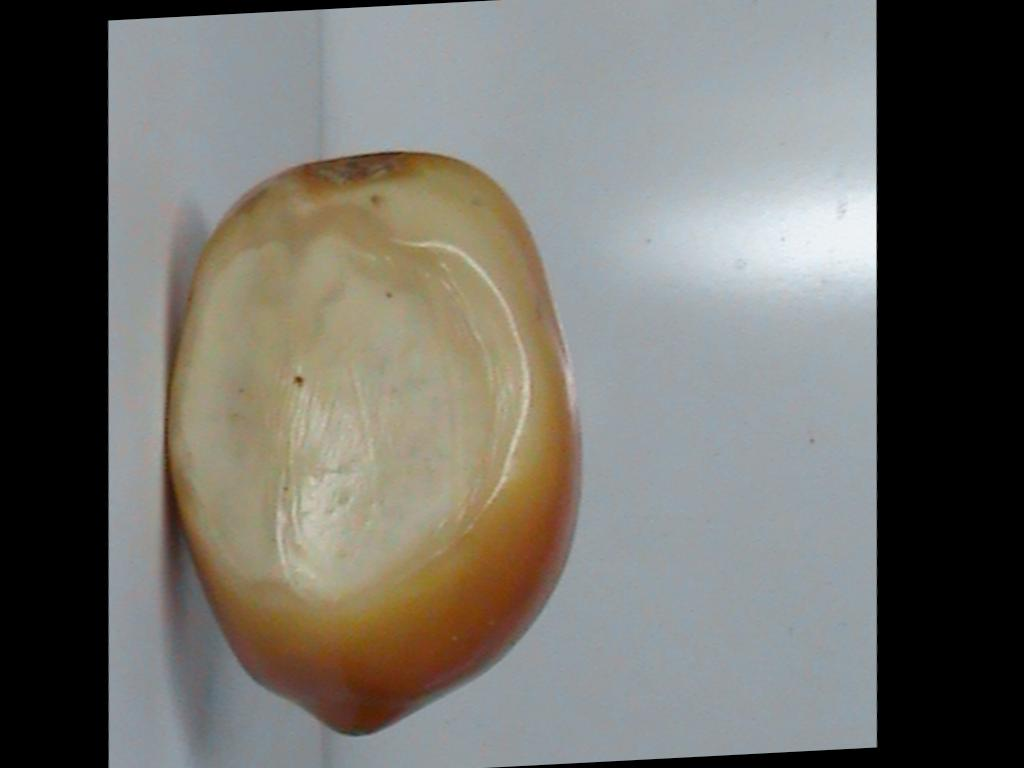bruise_discoloration: (168, 171, 524, 600)
tomato: (168, 152, 579, 735)
